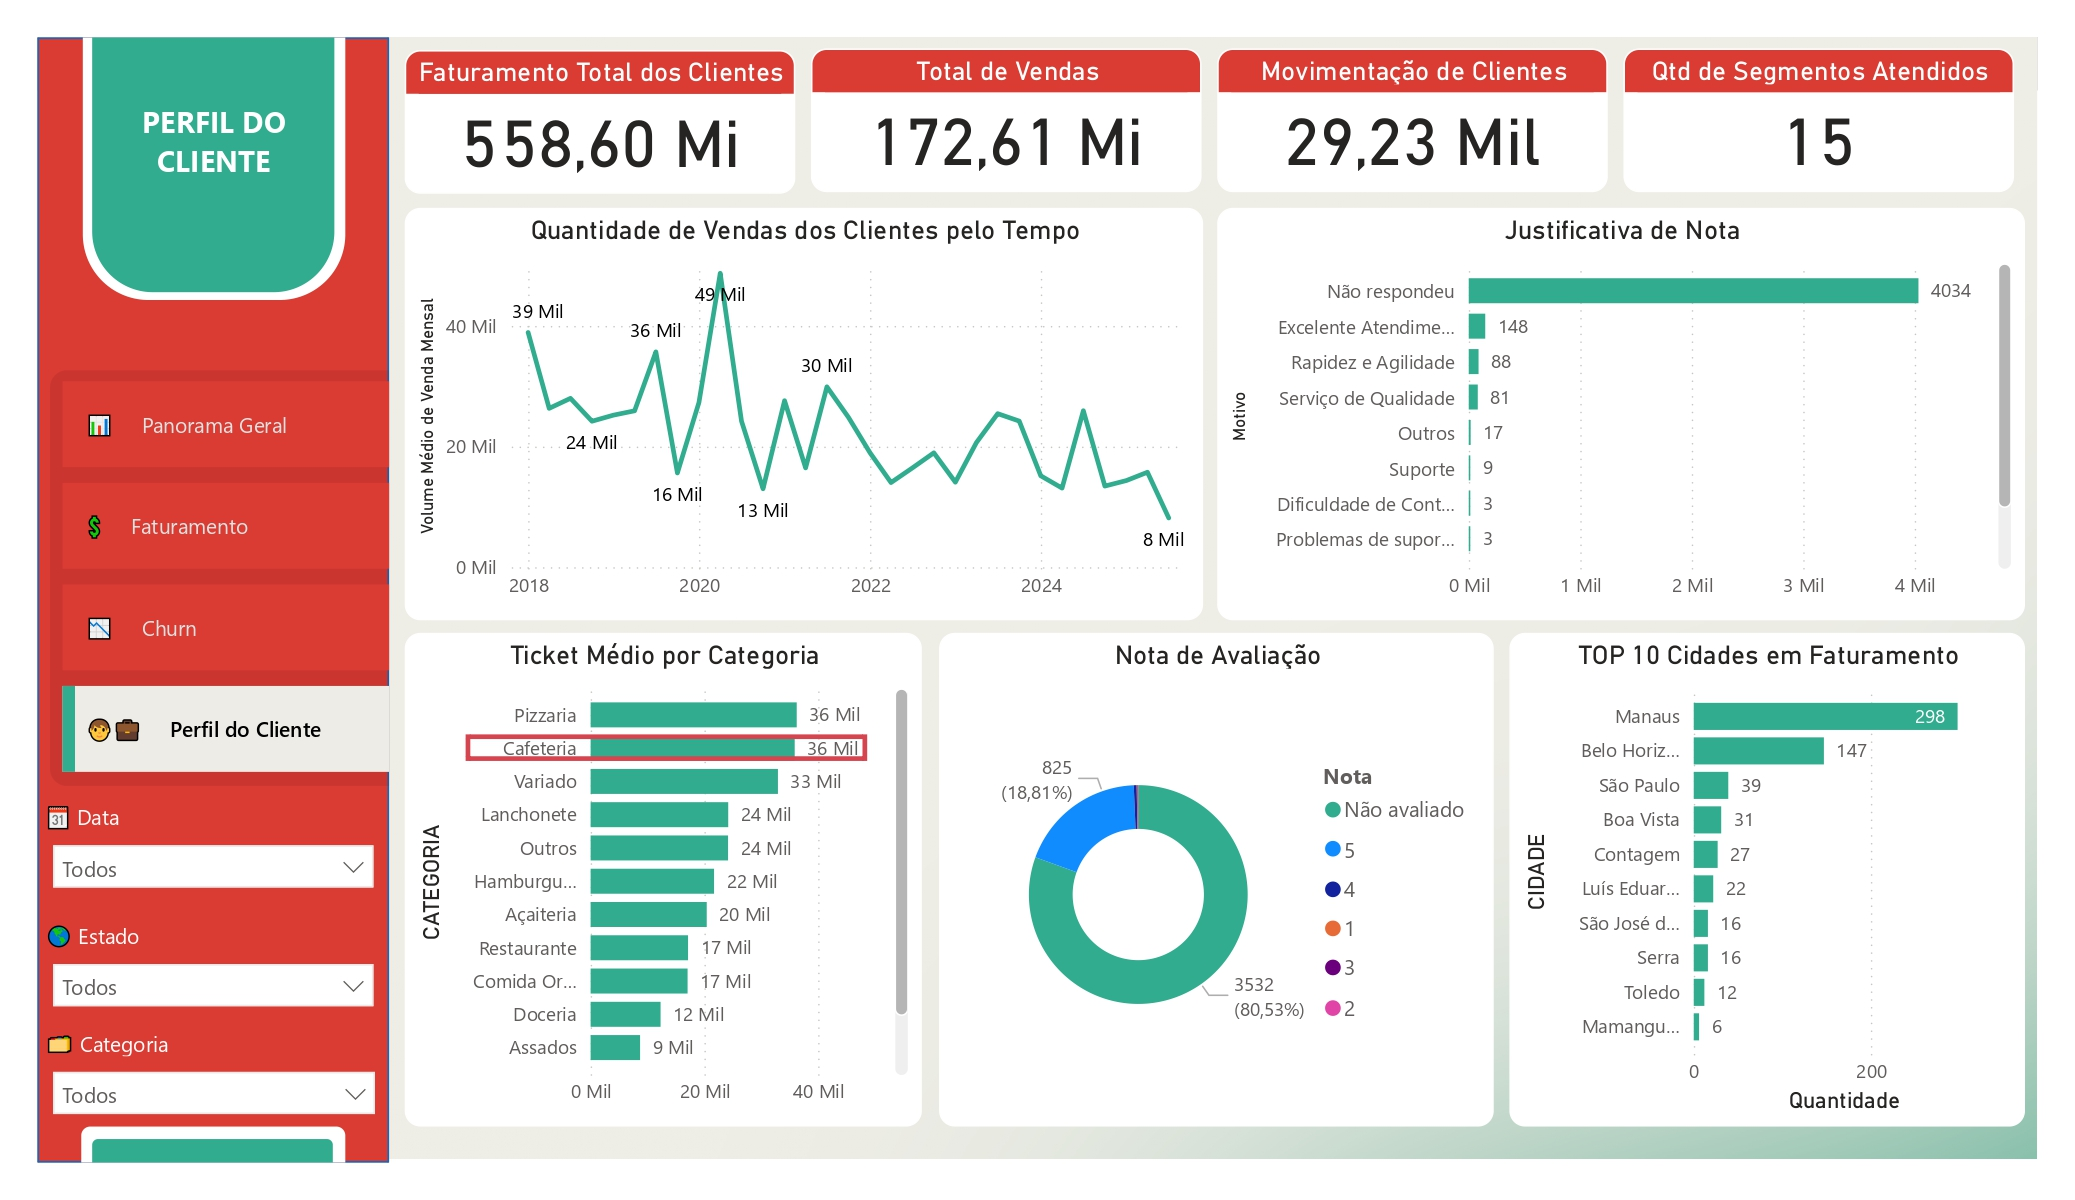

The page's visual inventory and layout, read from the dashboard file:
{"tool":"powerbi","page":{"name":"🧑💼     Perfil do Cliente","canvas":[1280,720],"ordinal":3},"visuals":[{"type":"shape","title":"Background Menus","box":[0,0,225,720],"z":0},{"type":"card","title":"Faturamento Total dos Clientes","fields":{"Values":["Sum(MOVIMENTACAO_CLIENTES.SUBTOTAL)"]},"box":[235,8,250,92],"z":1000},{"type":"card","title":"Qtd de Segmentos Atendidos","fields":{"Values":["Count(BASE_ASSINATURAS.CATEGORIA)"]},"box":[1015,7,250,92],"z":2000},{"type":"lineChart","title":"Quantidade de Vendas dos Clientes pelo Tempo","fields":{"Category":["BASE_ASSINATURAS.DATA_VENDA.Variation.Hierarquia de datas.Ano","BASE_ASSINATURAS.DATA_VENDA.Variation.Hierarquia de datas.Trimestre","BASE_ASSINATURAS.DATA_VENDA.Variation.Hierarquia de datas.Mês","BASE_ASSINATURAS.DATA_VENDA.Variation.Hierarquia de datas.Dia"],"Y":["MOVIMENTACAO_CLIENTES.Volume_Medio_Vendas_Mensal"]},"box":[235.2,109.2,510.7,263.7],"z":3000},{"type":"shape","box":[28.7,0,168,168],"z":4000},{"type":"shape","box":[35,0,155,163],"z":5000},{"type":"shape","box":[7.5,212.5,217.5,266.7],"z":6000},{"type":"card","title":"Total de Vendas","fields":{"Values":["Sum(MOVIMENTACAO_CLIENTES.IDENTIFICADOR_ESTABELECIMENTO)"]},"box":[495,7,250,92],"z":7000},{"type":"pageNavigator","title":"Menu de Navegação","box":[16,220,209,252],"z":8000},{"type":"card","title":"Movimentação de Clientes","fields":{"Values":["MOVIMENTACAO_CLIENTES.movimentacoes_cliente"]},"box":[755,7,250,92],"z":9000},{"type":"clusteredBarChart","title":"Ticket Médio por Categoria","fields":{"Category":["BASE_ASSINATURAS.CATEGORIA"],"Y":["MOVIMENTACAO_CLIENTES.Ticket_Medio_Cliente_Mensal"]},"box":[235.4,381.3,330.7,316.1],"z":10000},{"type":"slicer","title":"🗂️ Categoria","fields":{"Values":["BASE_ASSINATURAS.CATEGORIA"]},"box":[0,635,225.6,75.6],"z":11000},{"type":"slicer","title":"🌎 Estado","fields":{"Values":["BASE_ASSINATURAS.UF"]},"box":[0,566,225,76],"z":12000},{"type":"image","box":[47,8,131,131],"z":13000},{"type":"shape","box":[28,697,169,23],"z":14000},{"type":"shape","box":[35,705,154,15],"z":15000},{"type":"slicer","title":"🗓️ Data","fields":{"Values":["BASE_ASSINATURAS.DATA_VENDA"]},"box":[0,490,225,75.8],"z":16000},{"type":"donutChart","title":"Nota de Avaliação","fields":{"Category":["07_10_2025 09_34_15_estatisticas-avaliacoes_tratado.Nota"],"Y":["CountNonNull(07_10_2025 09_34_15_estatisticas-avaliacoes_tratado.Classificação)"]},"box":[576.8,381.3,355,316.1],"z":17000},{"type":"clusteredBarChart","title":"Justificativa de Nota","fields":{"Category":["07_10_2025 09_34_15_estatisticas-avaliacoes_tratado.Motivo Central "],"Y":["CountNonNull(07_10_2025 09_34_15_estatisticas-avaliacoes_tratado.Classificação)"]},"box":[754.8,108.9,517.4,263.6],"z":18000},{"type":"clusteredBarChart","title":"TOP 10 Cidades em Faturamento","fields":{"Category":["BASE_ASSINATURAS.CIDADE"],"Y":["CountNonNull(BASE_ASSINATURAS.ASSINATURA_ID)"]},"box":[941.5,381.3,330.7,316.1],"z":19000}]}

Visuals, with their boxes on the page's 1280x720 design canvas (x1, y1, x2, y2). These are canvas units, not pixel positions in the 2075x1200 screenshot, which may show the page scaled, cropped or inside an application window:
"Background Menus" shape: rect(0, 0, 225, 720)
"Faturamento Total dos Clientes" card: rect(235, 8, 485, 100)
"Qtd de Segmentos Atendidos" card: rect(1015, 7, 1265, 99)
"Quantidade de Vendas dos Clientes pelo Tempo" lineChart: rect(235, 109, 746, 373)
shape: rect(29, 0, 197, 168)
shape: rect(35, 0, 190, 163)
shape: rect(8, 212, 225, 479)
"Total de Vendas" card: rect(495, 7, 745, 99)
"Menu de Navegação" pageNavigator: rect(16, 220, 225, 472)
"Movimentação de Clientes" card: rect(755, 7, 1005, 99)
"Ticket Médio por Categoria" clusteredBarChart: rect(235, 381, 566, 697)
"🗂️ Categoria" slicer: rect(0, 635, 226, 711)
"🌎 Estado" slicer: rect(0, 566, 225, 642)
image: rect(47, 8, 178, 139)
shape: rect(28, 697, 197, 720)
shape: rect(35, 705, 189, 720)
"🗓️ Data" slicer: rect(0, 490, 225, 566)
"Nota de Avaliação" donutChart: rect(577, 381, 932, 697)
"Justificativa de Nota" clusteredBarChart: rect(755, 109, 1272, 372)
"TOP 10 Cidades em Faturamento" clusteredBarChart: rect(942, 381, 1272, 697)
